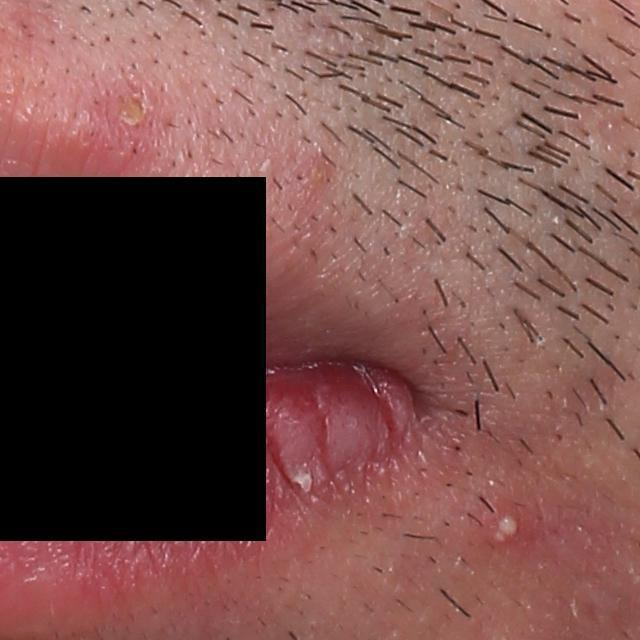pustule: (481, 502, 530, 550)
